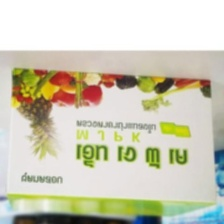book: (3, 62, 224, 224)
